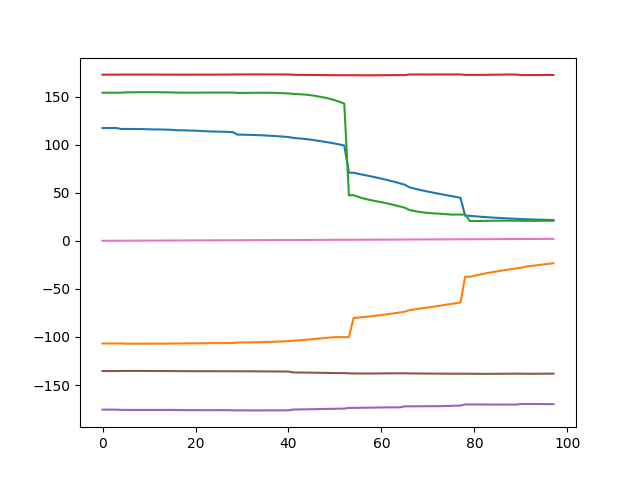Good_Bicep_Curl_Down: (3, 1, 640, 480)
